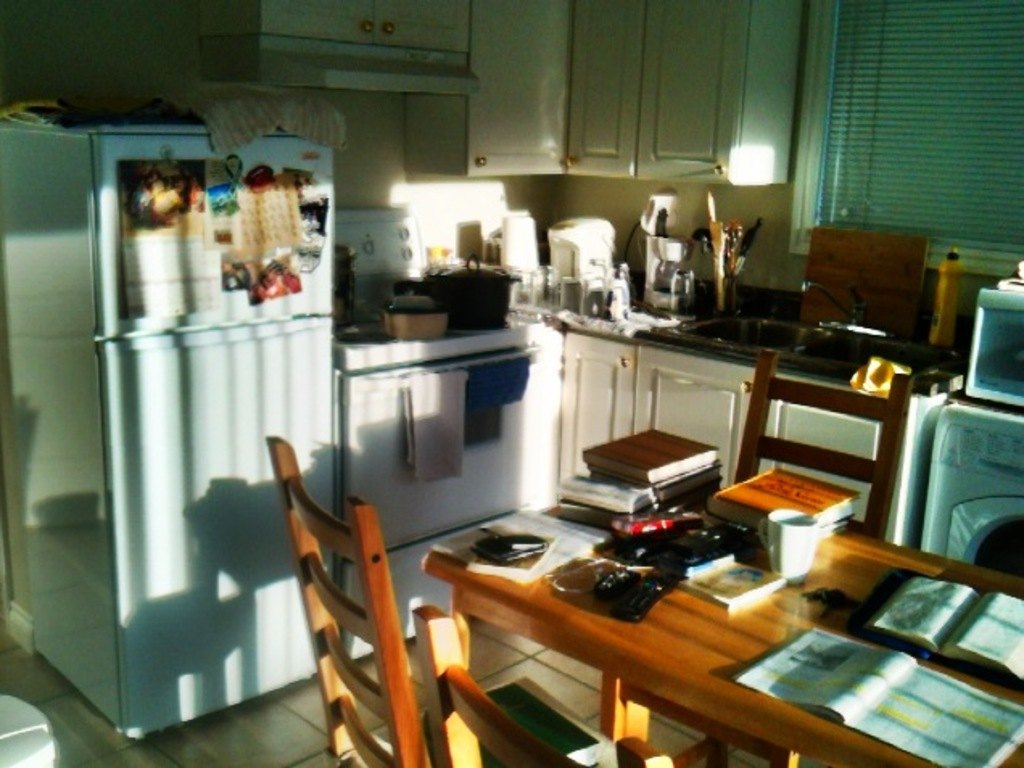cabinet door: (646, 18, 732, 178), (470, 10, 552, 165), (561, 25, 636, 174), (648, 354, 750, 447), (572, 337, 639, 434), (270, 4, 374, 46), (379, 3, 459, 46)
handle: (466, 146, 493, 175), (702, 153, 730, 178), (614, 346, 638, 374), (354, 12, 377, 41), (558, 150, 587, 173), (377, 16, 399, 44), (735, 378, 761, 396)
refrigerator door: (105, 336, 333, 700), (98, 132, 326, 321)
